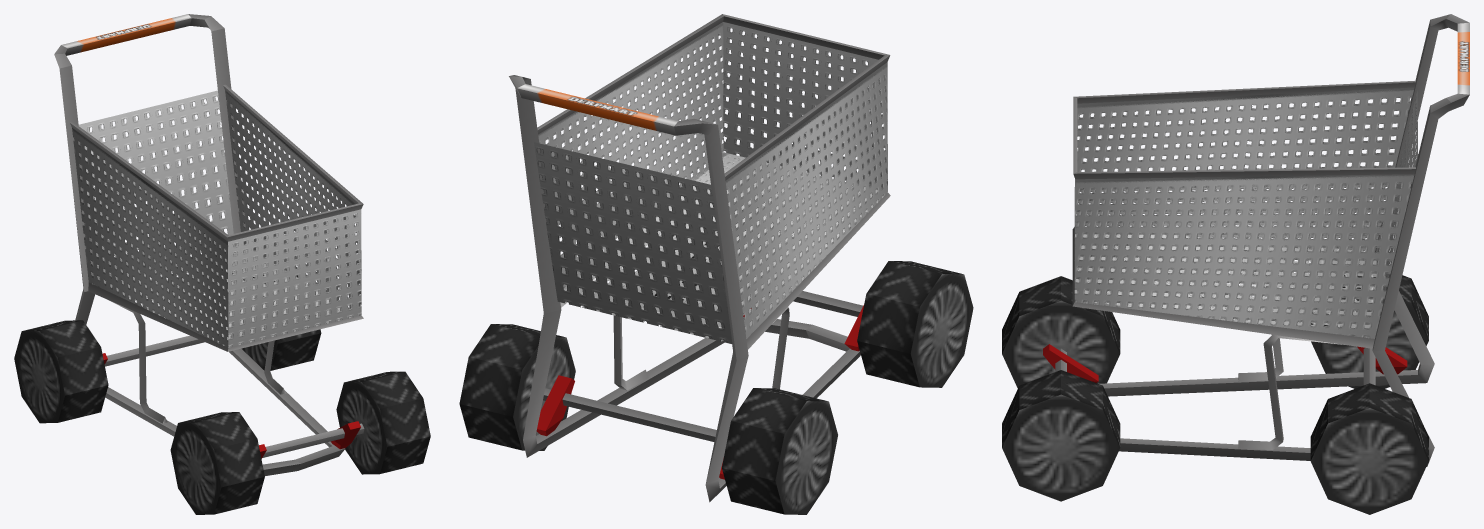
Rendered from drifter.fbx.
The picture shows the model from 3 angles, left to right: view 1: azimuth 30°, elevation 25°; view 2: azimuth 150°, elevation 25°; view 3: azimuth 270°, elevation 25°; orthographic projection. The views are drawn at different scales.
Visible parts, largest first — view 1: cartDrifter; view 2: cartDrifter; view 3: cartDrifter.
Boxes of the visible parts, x1,y1,x2,y2 form: cartDrifter: (14,14,430,514); cartDrifter: (459,14,973,514); cartDrifter: (1002,14,1469,514).
Size of the model in its own units: 0.8707 by 1.08 by 1.19.
